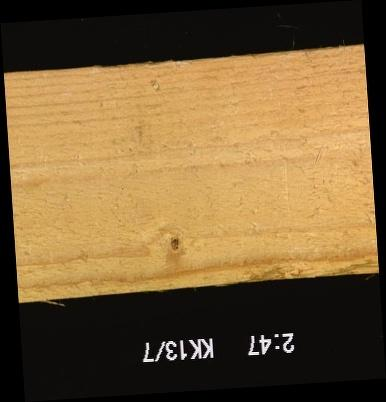dry_knot: (166, 231, 183, 255)
wave: (243, 261, 377, 277)
